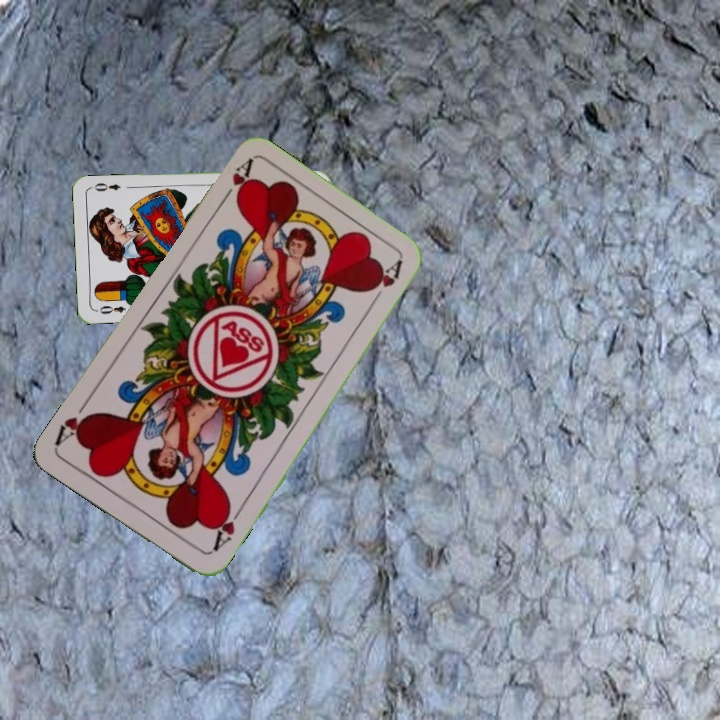EO: (95, 301, 128, 317)
HA: (215, 156, 256, 209), (208, 499, 246, 555)
